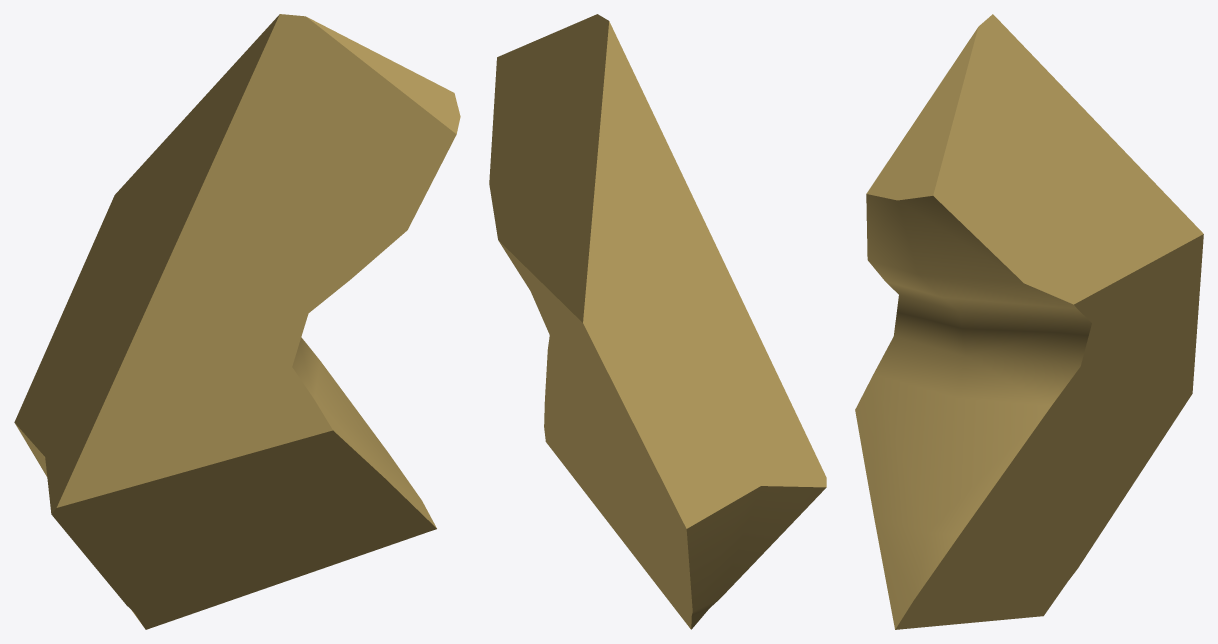
The model's file is broken_pot_cell_022_cell_002.fbx.
3 renders of one model, left to right at view 1: azimuth 30°, elevation 25°; view 2: azimuth 150°, elevation 25°; view 3: azimuth 270°, elevation 25°, orthographic. The views are drawn at different scales.
Parts seen in each view (by area): view 1: broken_pot_cell.022_cell.002; view 2: broken_pot_cell.022_cell.002; view 3: broken_pot_cell.022_cell.002.
Part boxes in pixels (left/top/right/bottom): broken_pot_cell.022_cell.002: left=14, top=14, right=460, bottom=629; broken_pot_cell.022_cell.002: left=489, top=14, right=826, bottom=629; broken_pot_cell.022_cell.002: left=855, top=14, right=1203, bottom=629.
Bounding box in the file's own units: 0.2878 × 0.4414 × 0.211.
